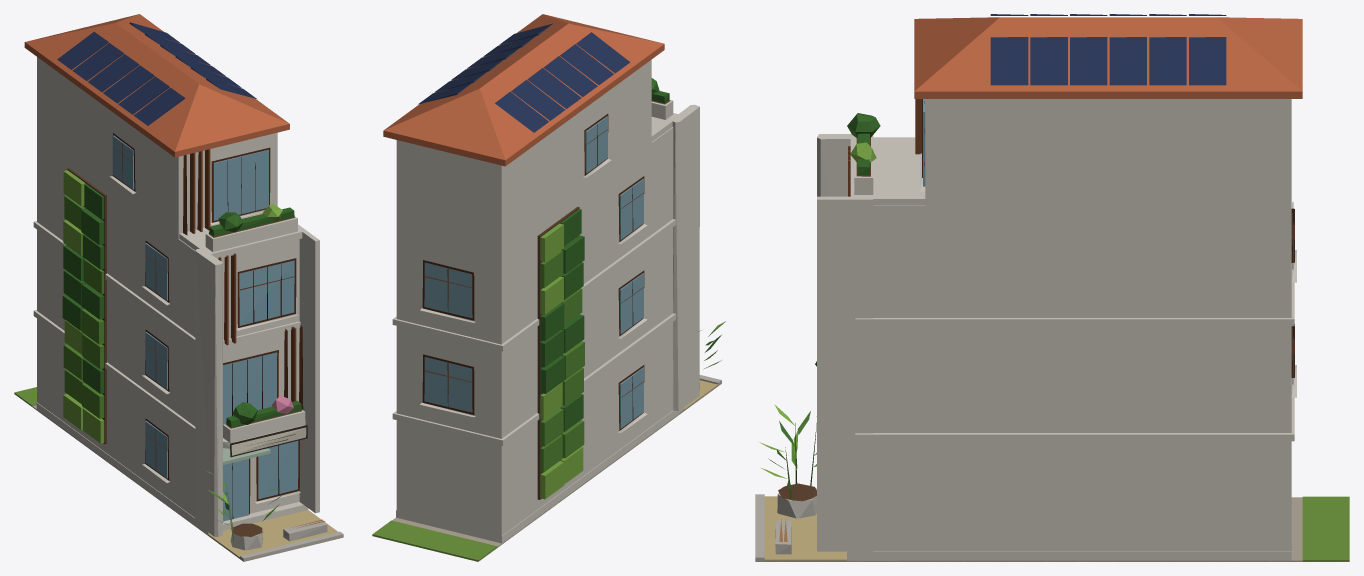
The model's file is bay2_left.glb.
3 views of the same model, side by side, from view 1: azimuth 30°, elevation 25°; view 2: azimuth 150°, elevation 25°; view 3: azimuth 270°, elevation 25° (orthographic). The views are drawn at different scales.
Parts seen in each view (by area): view 1: body; view 2: body; view 3: body.
Boxes of the visible parts, <box> form: body: <box>14,14,343,561</box>; body: <box>372,14,725,561</box>; body: <box>755,14,1349,561</box>.
Bounding box in the file's own units: 4.92 × 15.16 × 15.9.
